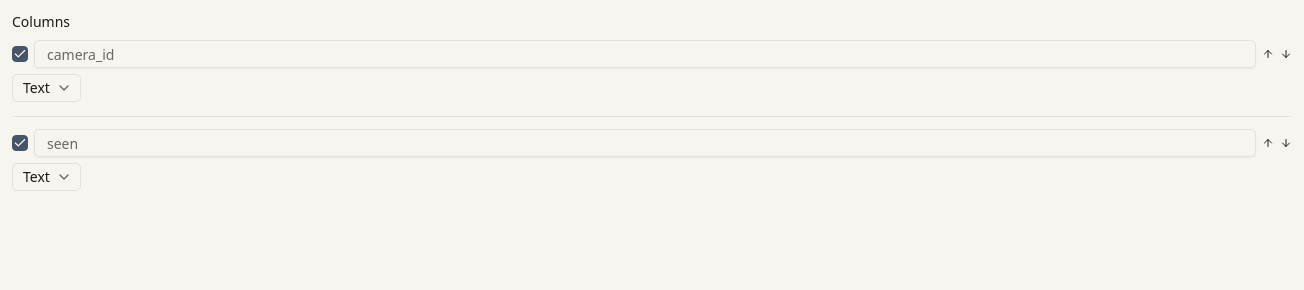
Scenario: choosing how a column is drawn › reveals the image template only for an image column
Click the dropdown named "Display camera_id as".
click(46, 88)  # box x1=12 y1=74 x2=81 y2=102
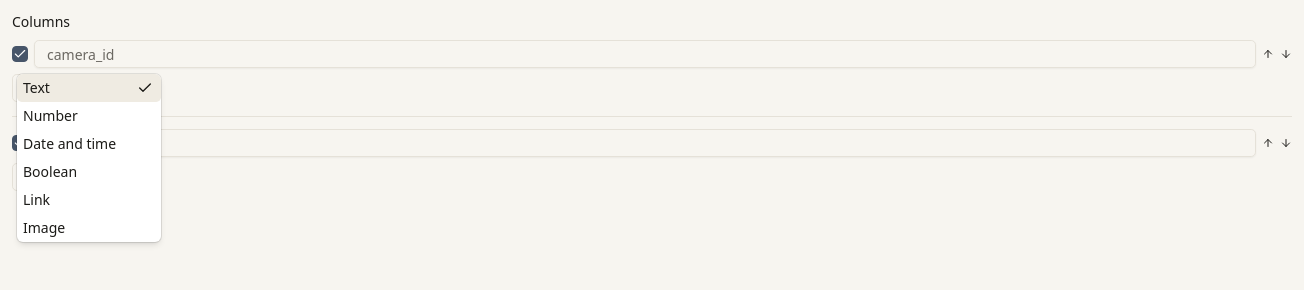
Click the option "Image".
click(44, 228)  # box x1=23 y1=218 x2=65 y2=237
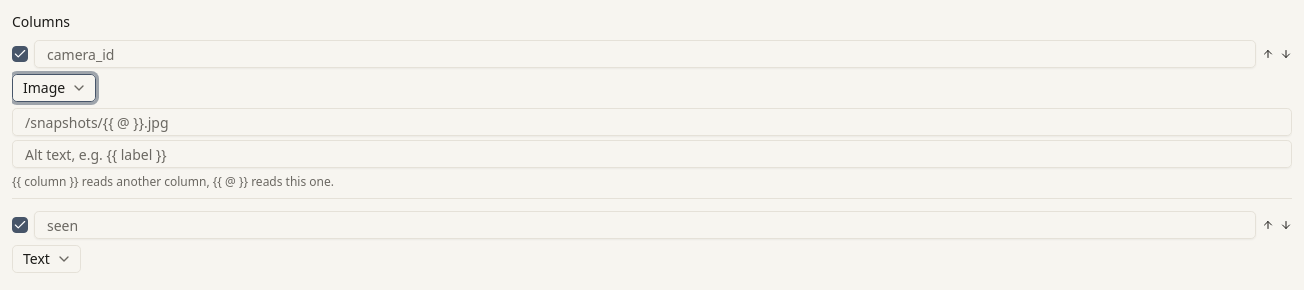
Now the field named "camera_id image URL template" is shown, box x1=12 y1=108 x2=1292 y2=136
